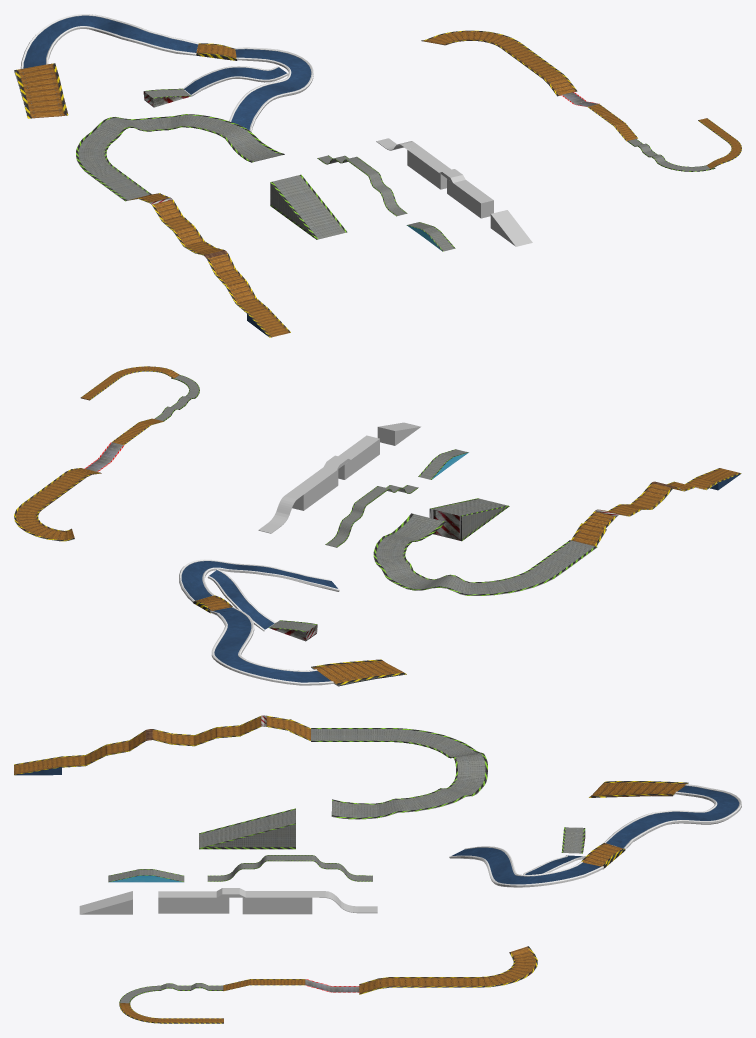
The model's file is tracks.FBX.
3 views of the same model, one above another, from view 1: azimuth 30°, elevation 25°; view 2: azimuth 150°, elevation 25°; view 3: azimuth 270°, elevation 25° (orthographic). The views are drawn at different scales.
Visible parts, largest first — view 1: Object010, level_F, Object011, Object009, Object012, Object013, Object008, Object004, polySurface348, polySurface1, Object003, Level_H (+5 smaller); view 2: level_F, Object010, Object011, Object009, Object013, Object012, polySurface1, Object008, polySurface348, Object004, Level_H, Object014 (+5 smaller); view 3: level_F, Object010, Object011, Object012, Object009, Object013, polySurface1, Object004, polySurface348, Level_H, Object003, Object001 (+4 smaller).
Boxes of the visible parts, x1=… form: Object010: x1=14, y1=14, x2=198, y2=118; level_F: x1=76, y1=114, x2=284, y2=201; Object011: x1=126, y1=193, x2=290, y2=337; Object009: x1=229, y1=47, x2=313, y2=131; Object012: x1=270, y1=174, x2=347, y2=239; Object013: x1=421, y1=30, x2=577, y2=96; Object008: x1=183, y1=66, x2=288, y2=96; Object004: x1=447, y1=179, x2=493, y2=218; polySurface348: x1=317, y1=155, x2=407, y2=216; polySurface1: x1=407, y1=146, x2=451, y2=189; Object003: x1=490, y1=210, x2=532, y2=246; Level_H: x1=561, y1=92, x2=637, y2=141; level_F: x1=373, y1=513, x2=597, y2=595; Object010: x1=210, y1=606, x2=406, y2=686; Object011: x1=571, y1=468, x2=741, y2=546; Object009: x1=179, y1=559, x2=339, y2=602; Object013: x1=14, y1=468, x2=101, y2=541; Object012: x1=429, y1=498, x2=509, y2=541; polySurface1: x1=291, y1=467, x2=338, y2=510; Object008: x1=207, y1=569, x2=275, y2=631; polySurface348: x1=325, y1=485, x2=418, y2=547; Object004: x1=338, y1=435, x2=379, y2=479; Level_H: x1=84, y1=418, x2=163, y2=471; Object014: x1=80, y1=366, x2=179, y2=400; level_F: x1=311, y1=728, x2=487, y2=819; Object010: x1=589, y1=781, x2=741, y2=849; Object011: x1=14, y1=715, x2=310, y2=775; Object012: x1=199, y1=808, x2=295, y2=849; Object009: x1=449, y1=846, x2=603, y2=887; Object013: x1=359, y1=946, x2=537, y2=994; polySurface1: x1=242, y1=891, x2=312, y2=914; Object004: x1=158, y1=891, x2=229, y2=913; polySurface348: x1=207, y1=855, x2=372, y2=881; Level_H: x1=223, y1=979, x2=359, y2=992; Object003: x1=79, y1=891, x2=132, y2=914; Object001: x1=108, y1=869, x2=184, y2=882.
Size of the model in its own units: 13127 by 1093 by 14646.
